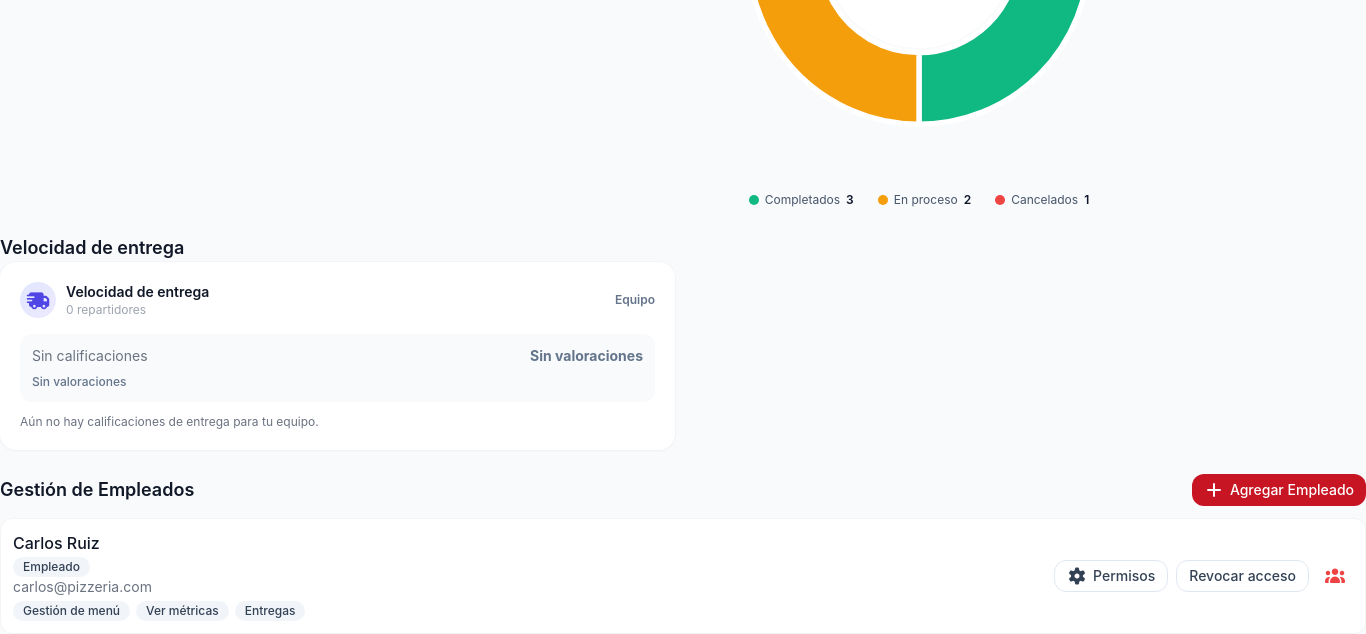
Test case: MerchantResumenPage › alta de empleados › muestra el error devuelto por el Edge Function
(page scrolled)
Click the button with test id "open-add-employee".
click(1279, 490)  # box 1192,474 -> 1365,506
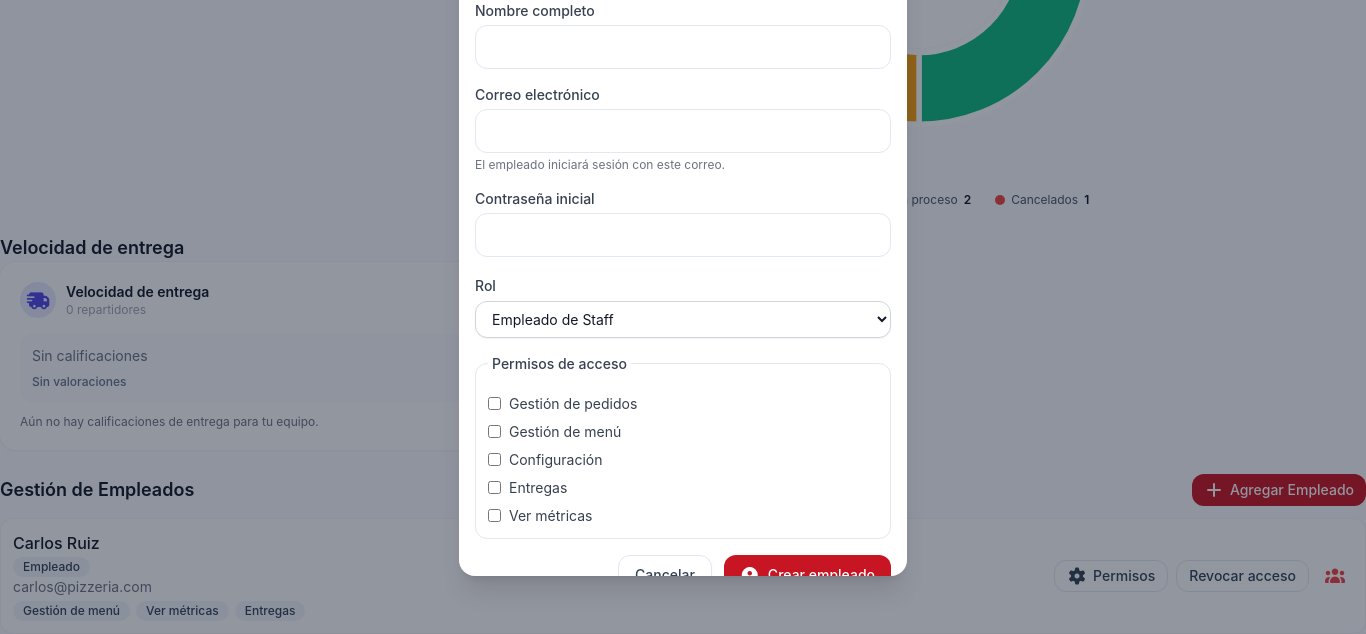
Type "Ana Gómez" into the field labelled "Nombre completo".
click(683, 47); type("Ana Gómez")  # box 475,25 -> 891,69
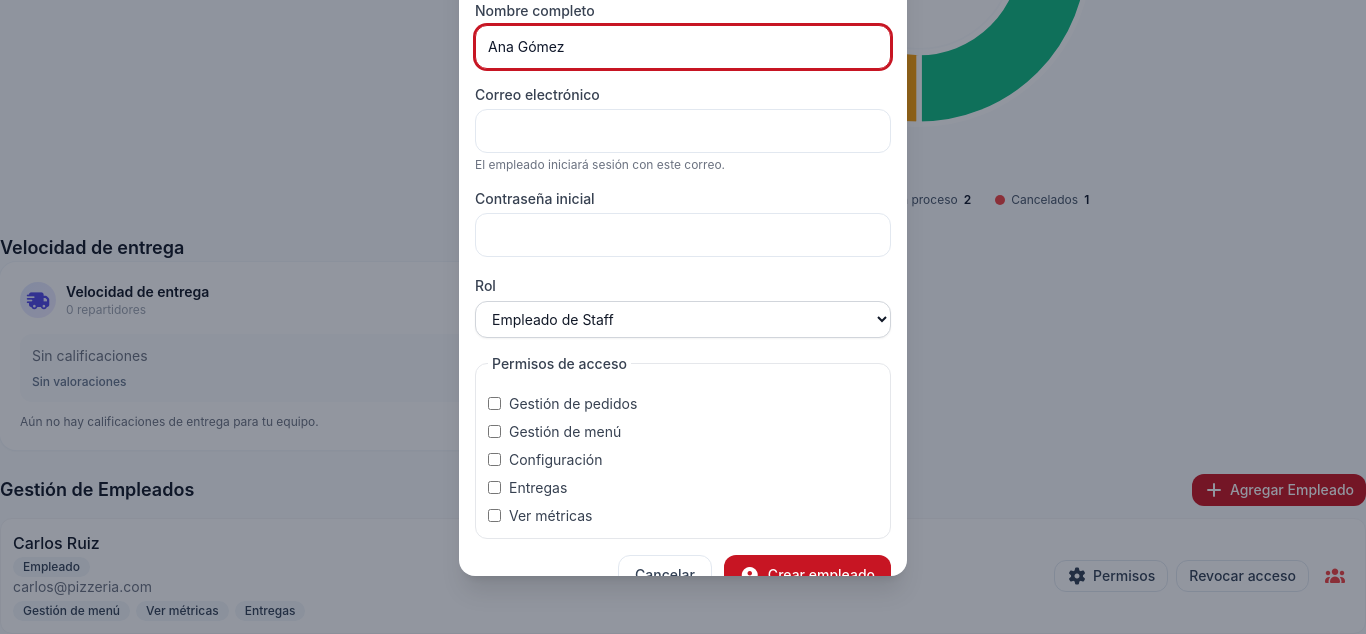
Type "ana@pizzeria.com" into the field labelled "Correo electrónico".
click(683, 131); type("ana@pizzeria.com")  # box 475,109 -> 891,153
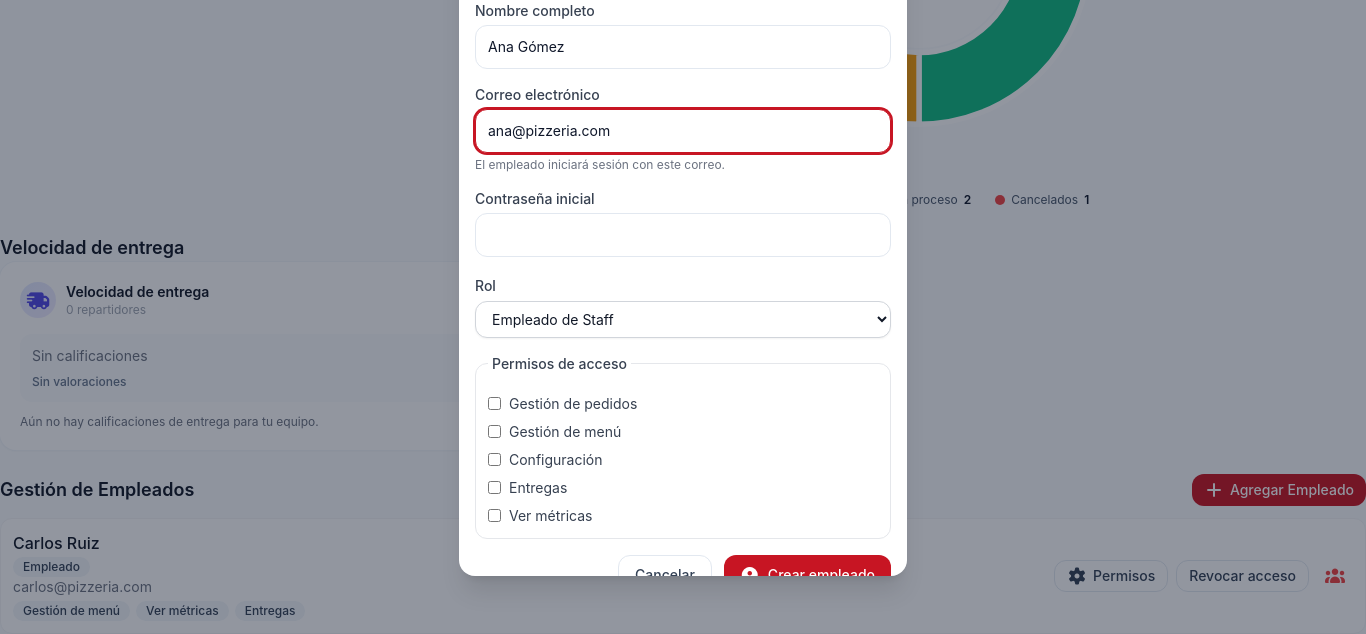
Type "Clave123" into the password field labelled "Contraseña inicial".
click(683, 235); type("Clave123")  # box 475,213 -> 891,257
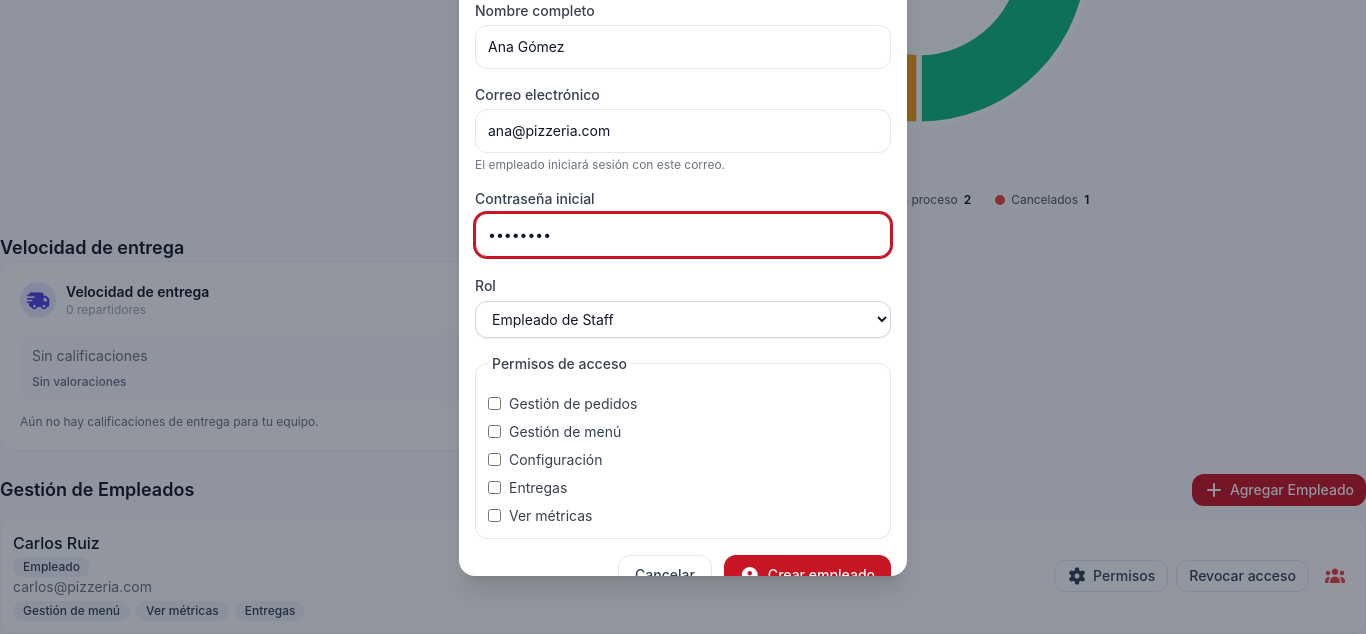
Click the button with test id "confirm-add-employee".
click(807, 575)  # box 724,555 -> 891,595
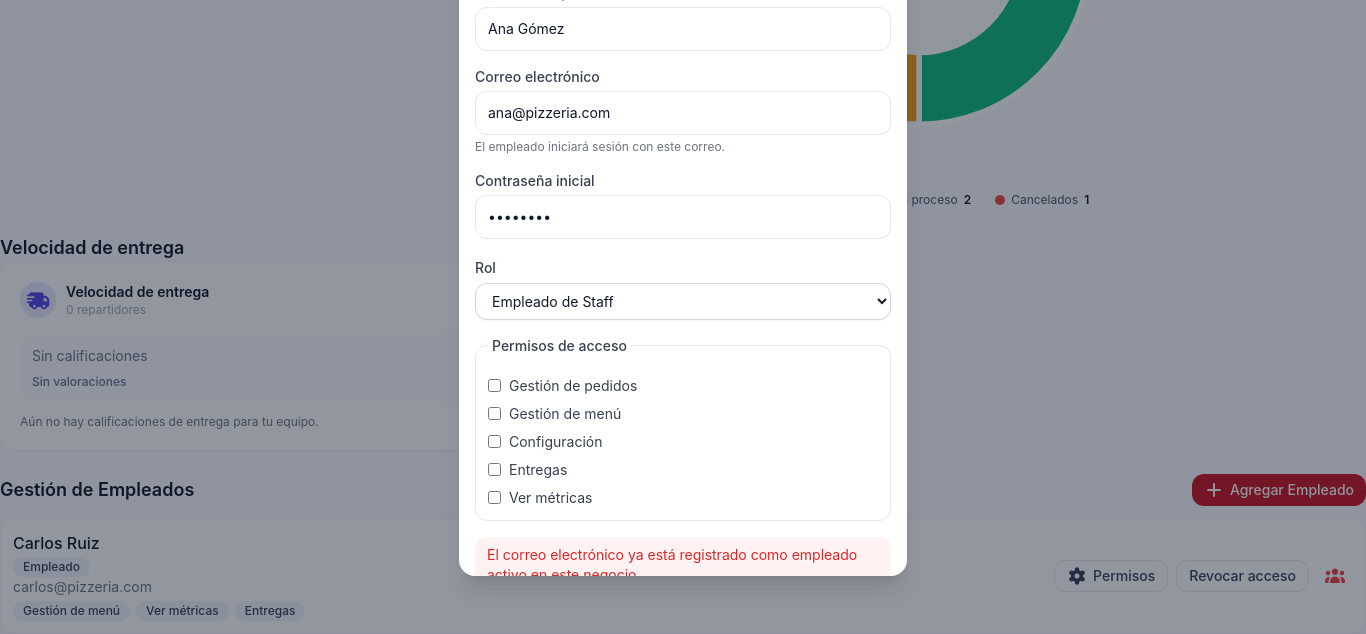
Expected: the message reads "El correo electrónico ya está registrado como empleado activo en este negocio.", 487,546 -> 857,576
